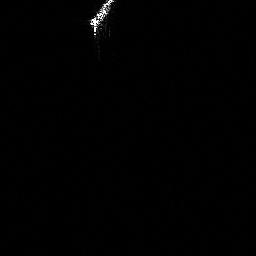ship: (86, 1, 117, 36)
